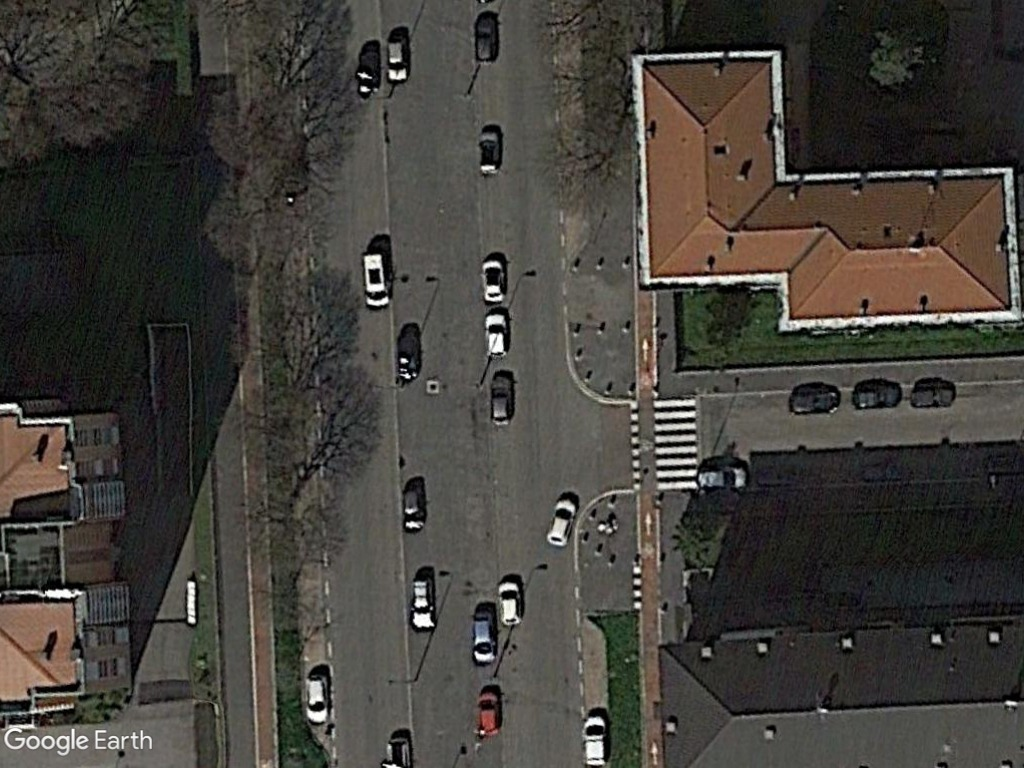car: (573, 706, 612, 768), (543, 492, 581, 552), (479, 307, 515, 361), (468, 608, 501, 666), (493, 578, 529, 630), (478, 253, 513, 304), (301, 671, 331, 728), (382, 32, 413, 87), (487, 372, 515, 429), (474, 688, 504, 738), (477, 128, 506, 175)
van: (358, 248, 396, 312)
